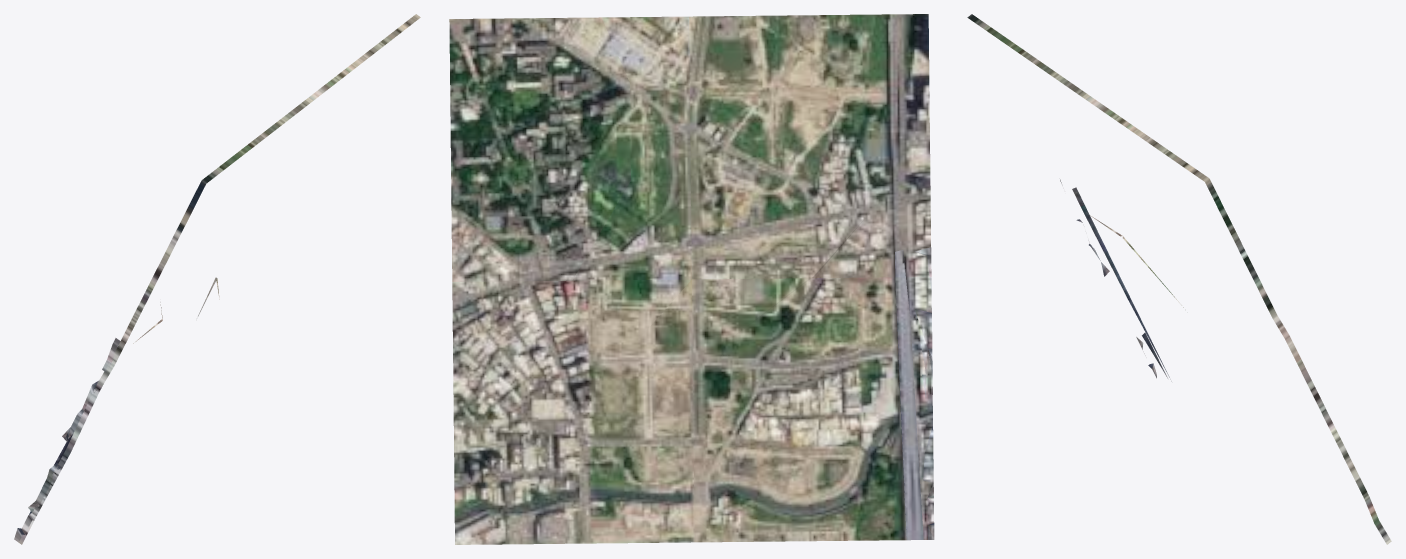
3 renders of one model, left to right at view 1: azimuth 30°, elevation 25°; view 2: azimuth 150°, elevation 25°; view 3: azimuth 270°, elevation 25°, orthographic. The views are drawn at different scales.
Size of the model in its own units: 1231 by 1110 by 1033.
1 material, 1 textured.
